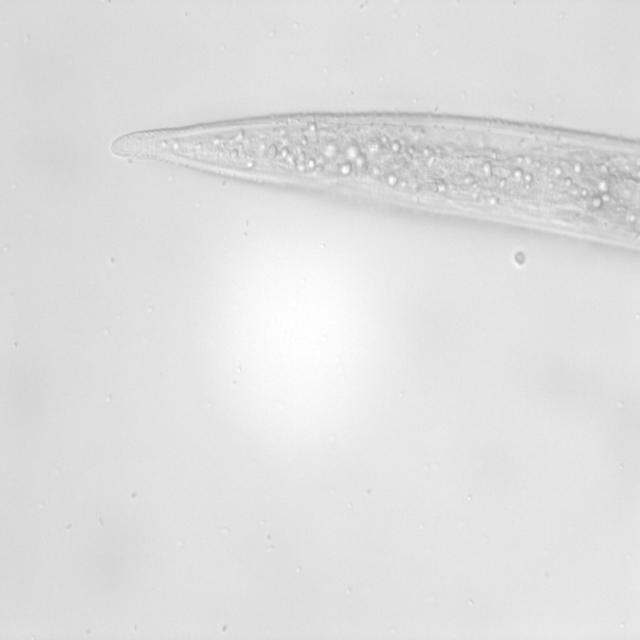Radopholus: (94, 97, 640, 273)
